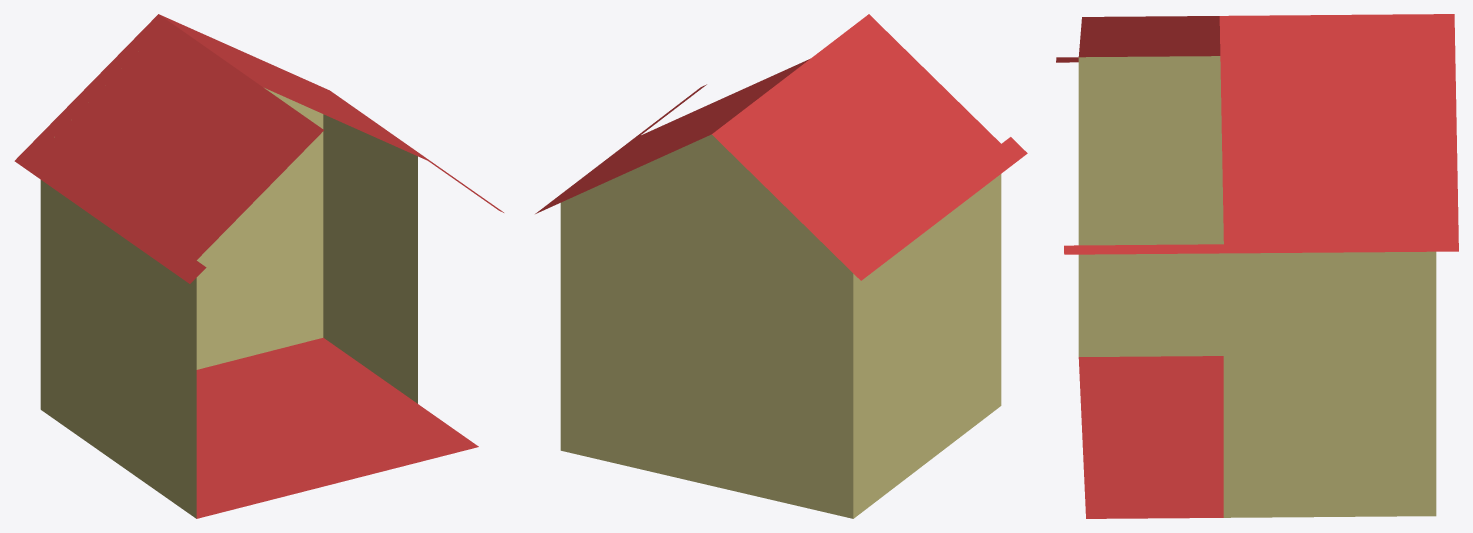
3 views of the same model, side by side, from view 1: azimuth 30°, elevation 25°; view 2: azimuth 150°, elevation 25°; view 3: azimuth 270°, elevation 25° (orthographic). The views are drawn at different scales.
Bounding box in the file's own units: 9.75 × 9.03 × 10.22.
